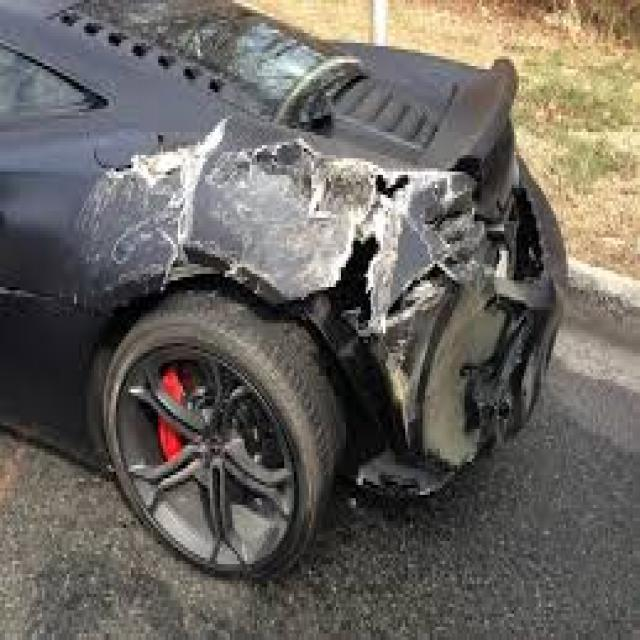moderate: (64, 135, 599, 501)
